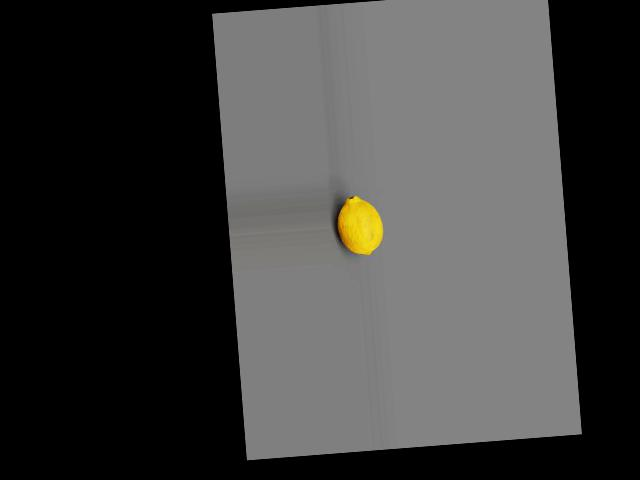lemon: (333, 179, 388, 263)
